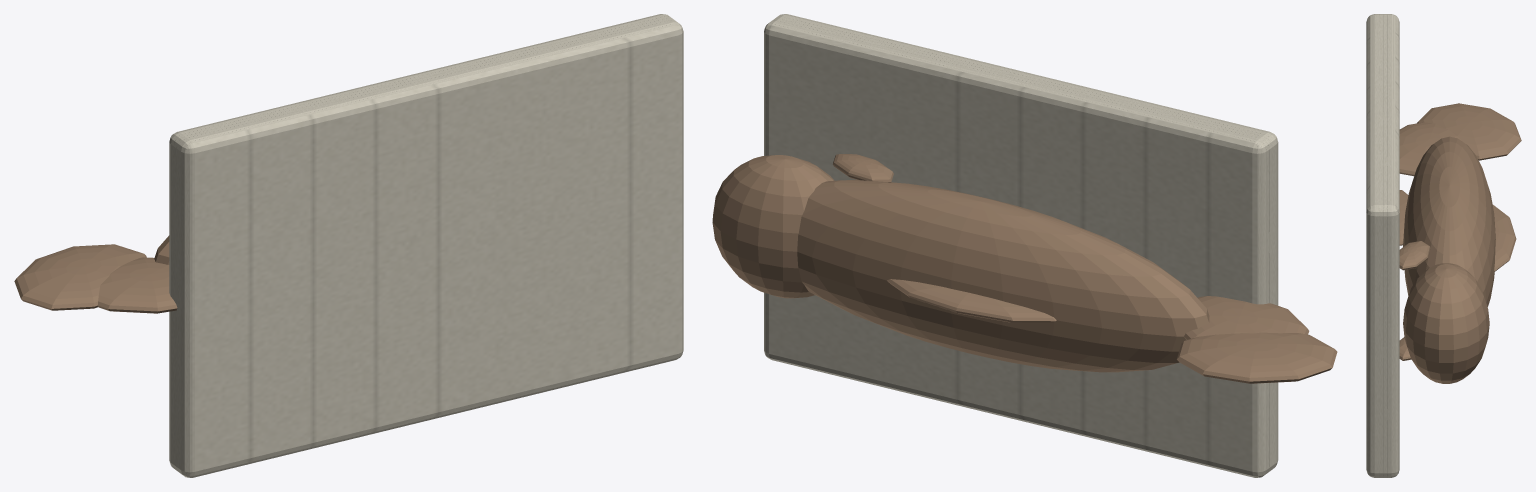
File: fish-fossil.glb
3 renders of one model, left to right at view 1: azimuth 30°, elevation 25°; view 2: azimuth 150°, elevation 25°; view 3: azimuth 270°, elevation 25°, orthographic. The views are drawn at different scales.
Parts seen in each view (by area): view 1: slab, tailf1, tailf-1; view 2: slab, body, head, tailf1, tailf-1, df, pf1; view 3: slab, body, head, tailf1, tailf-1, df, pf1, af, pf-1.
Boxes of the visible parts, bbox=[...] form: slab: bbox=[169, 14, 683, 477]; tailf1: bbox=[14, 244, 146, 310]; tailf-1: bbox=[98, 257, 177, 313]; slab: bbox=[764, 14, 1278, 477]; body: bbox=[797, 180, 1209, 372]; head: bbox=[712, 155, 833, 298]; tailf1: bbox=[1177, 332, 1337, 383]; tailf-1: bbox=[1184, 296, 1309, 339]; df: bbox=[887, 279, 1056, 322]; pf1: bbox=[833, 154, 893, 182]; slab: bbox=[1366, 14, 1399, 477]; body: bbox=[1403, 136, 1495, 306]; head: bbox=[1403, 263, 1489, 383]; tailf1: bbox=[1417, 103, 1521, 160]; tailf-1: bbox=[1399, 122, 1461, 176]; df: bbox=[1493, 205, 1516, 271]; pf1: bbox=[1399, 241, 1430, 270]; af: bbox=[1399, 190, 1408, 245]; pf-1: bbox=[1399, 337, 1411, 360].
Bounding box in the file's own units: 3.48 × 1.8 × 0.9314.
2 materials, 1 textured.
